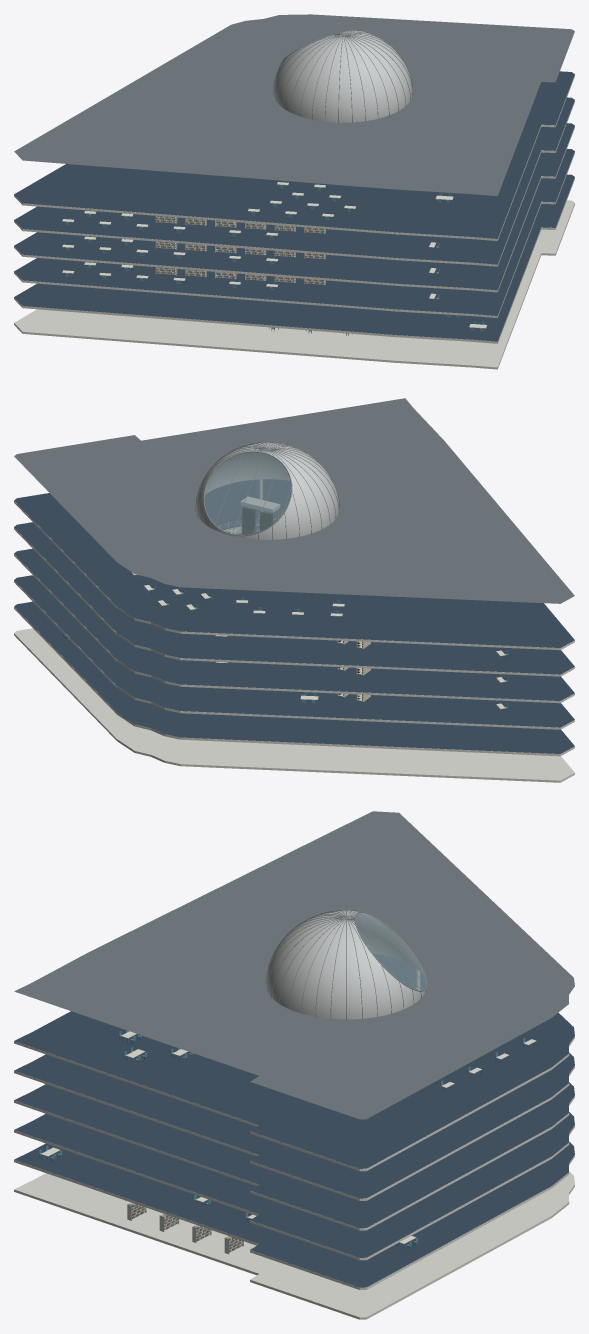
The model's file is lrb-interior-5ab20cf90fe2.glb.
The picture shows the model from 3 angles, top to bottom: view 1: azimuth 30°, elevation 25°; view 2: azimuth 150°, elevation 25°; view 3: azimuth 270°, elevation 25°; orthographic projection. The views are drawn at different scales.
Visible parts, largest first — view 1: LRB.001; view 2: LRB.001; view 3: LRB.001.
Boxes of the visible parts, left/top/right/bottom form: LRB.001: left=14, top=14, right=574, bottom=369; LRB.001: left=14, top=398, right=574, bottom=782; LRB.001: left=14, top=811, right=574, bottom=1319.
Size of the model in its own units: 89.08 by 36.13 by 68.53.
